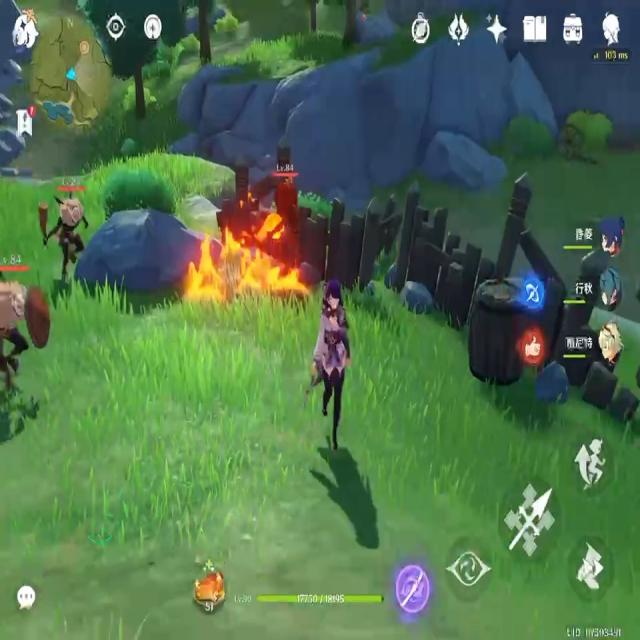genshin-hilichurls: (2, 251, 52, 409), (38, 181, 92, 281), (269, 160, 307, 262)
